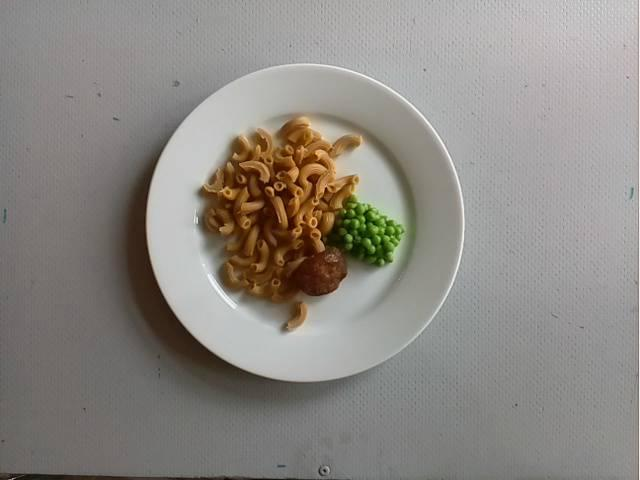Full grain pasta + peas + meatball: (210, 139, 406, 323)
